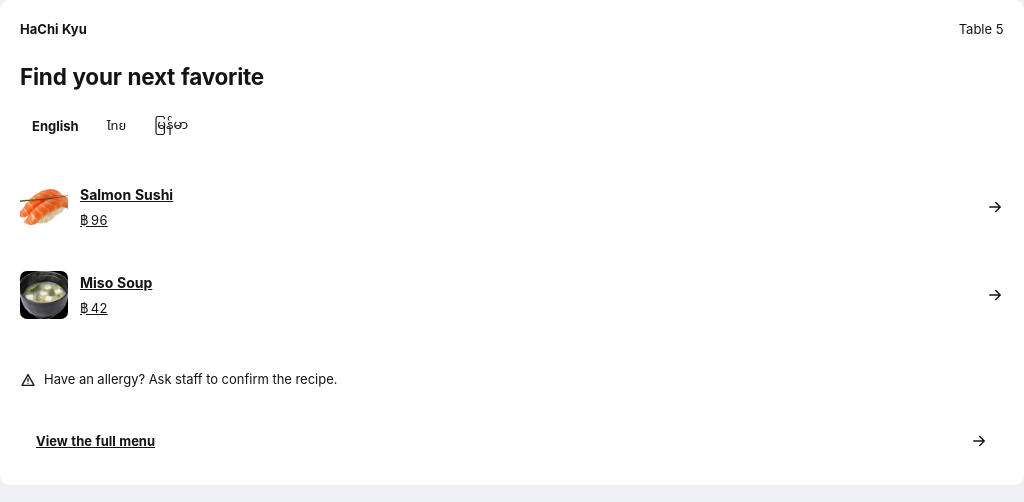
Scenario: the real landing-page menu preview › switches all three languages using actual dish translations and preserves dish deep links
Step 1. Click the button "ไทย" → (116, 126), box [95, 104, 138, 148]
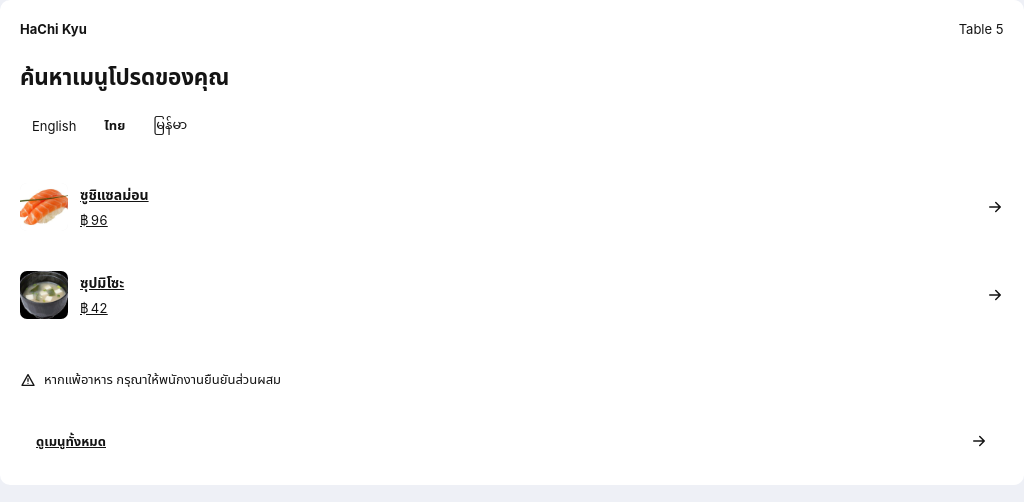
Check: the text "ซูชิแซลม่อน" is shown, box [80, 186, 149, 203]
Step 2. Click the button "မြန်မာ" → (170, 126), box [141, 104, 199, 148]
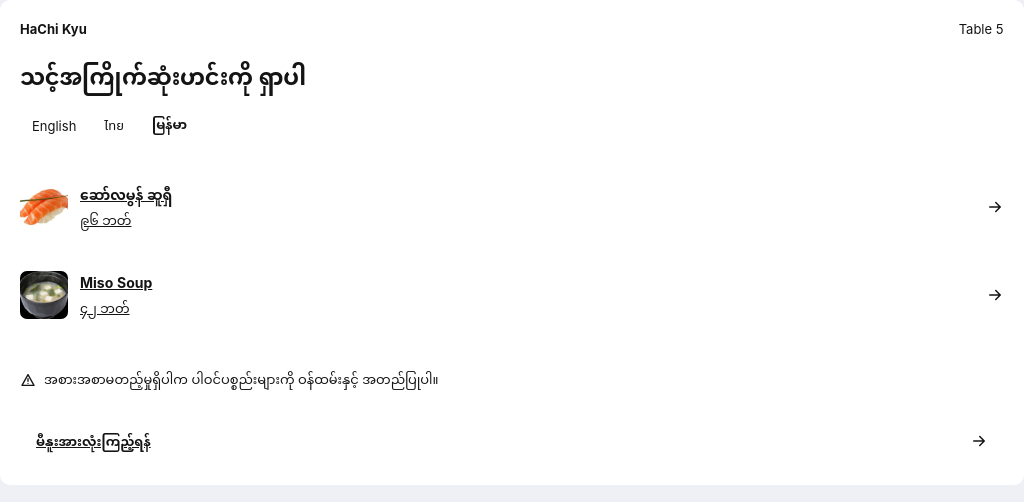
Check: the text "ဆော်လမွန် ဆူရှီ" is shown, box [80, 186, 172, 203]
